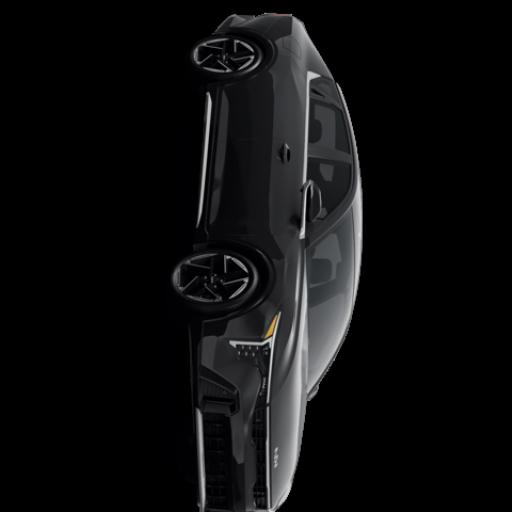hatchback: (170, 16, 361, 512)
